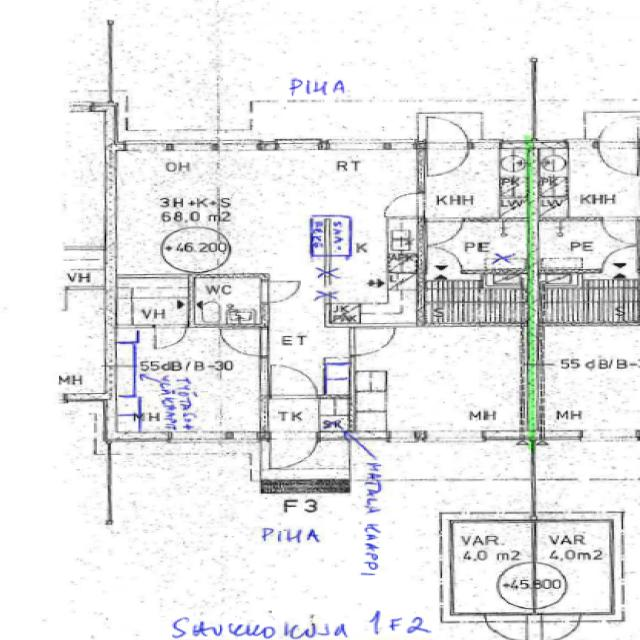door: (271, 431, 317, 468), (272, 364, 318, 398), (427, 143, 467, 178), (427, 116, 467, 151), (349, 328, 395, 355), (221, 329, 268, 355), (485, 612, 527, 640), (381, 192, 425, 216), (426, 218, 462, 245), (427, 247, 462, 273), (261, 280, 301, 302), (155, 324, 186, 348)
